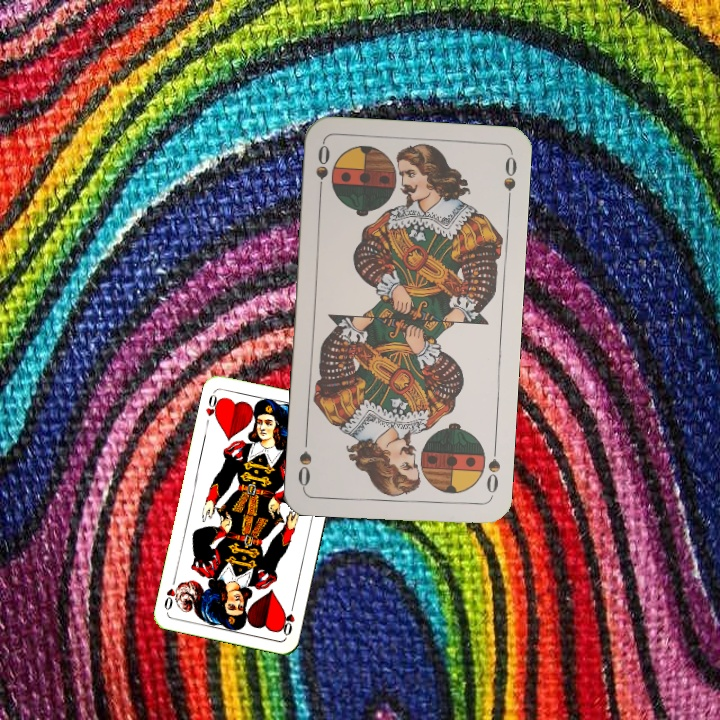HO: (276, 599, 297, 638), (202, 389, 224, 423)
SO: (312, 140, 333, 199), (482, 441, 503, 500)
